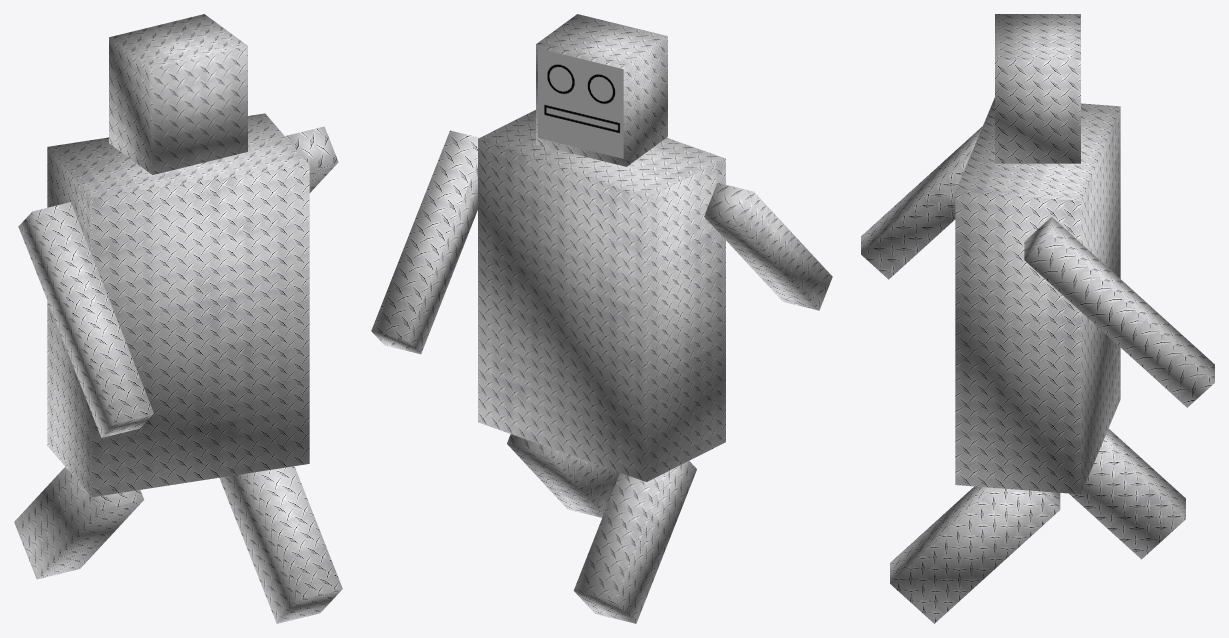
Rendered from Robot.gltf.
The picture shows the model from 3 angles, left to right: view 1: azimuth 30°, elevation 25°; view 2: azimuth 150°, elevation 25°; view 3: azimuth 270°, elevation 25°; orthographic projection. The views are drawn at different scales.
Visible parts, largest first — view 1: Body, Head, Arm.L, Leg.R, Leg.L, Arm.R; view 2: Body, Head, Arm.R, Leg.L, Arm.L, Leg.R; view 3: Body, Head, Leg.R, Arm.R, Leg.L, Arm.L.
Part boxes in pixels (x1,y1,x2,y2): Body: (47, 113, 309, 497); Head: (109, 14, 247, 174); Arm.L: (18, 202, 153, 437); Leg.R: (219, 466, 342, 623); Leg.L: (14, 467, 144, 579); Arm.R: (285, 126, 338, 192); Body: (478, 110, 725, 481); Head: (536, 14, 667, 166); Arm.R: (371, 130, 479, 354); Leg.L: (573, 461, 696, 623); Arm.L: (704, 182, 832, 310); Leg.R: (507, 434, 619, 517); Body: (955, 97, 1120, 494); Head: (995, 14, 1080, 163); Leg.R: (890, 486, 1060, 623); Arm.R: (1024, 217, 1214, 407); Leg.L: (1069, 428, 1185, 559); Arm.L: (861, 126, 982, 279).
Bounding box in the file's own units: 0.882 × 1.53 × 0.8992.
2 materials, 2 textured.
